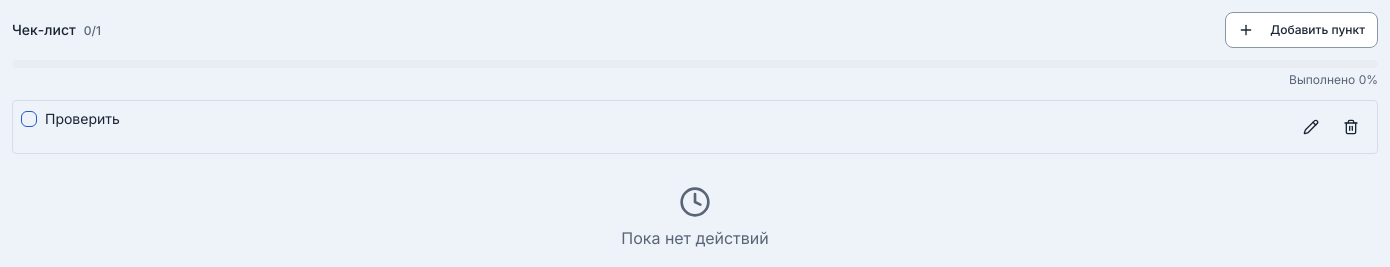
checklist-edit history refresh › refreshes only after a successful server response (success=true)
This screenshot has width=1390, height=267.
Expected: the text "Пока нет действий" is shown, left=621, top=226, right=769, bottom=250
Click the button named "Редактировать": (1311,127) left=1293, top=109, right=1329, bottom=145
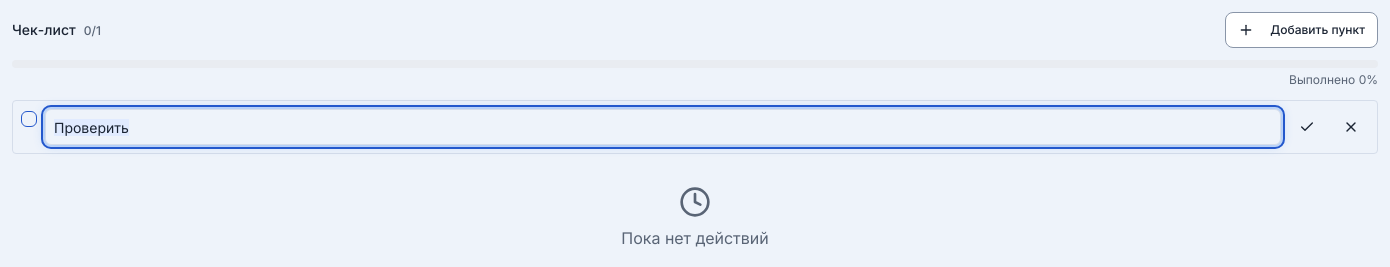
In the field: (663,127) left=45, top=109, right=1281, bottom=145, type " снова"
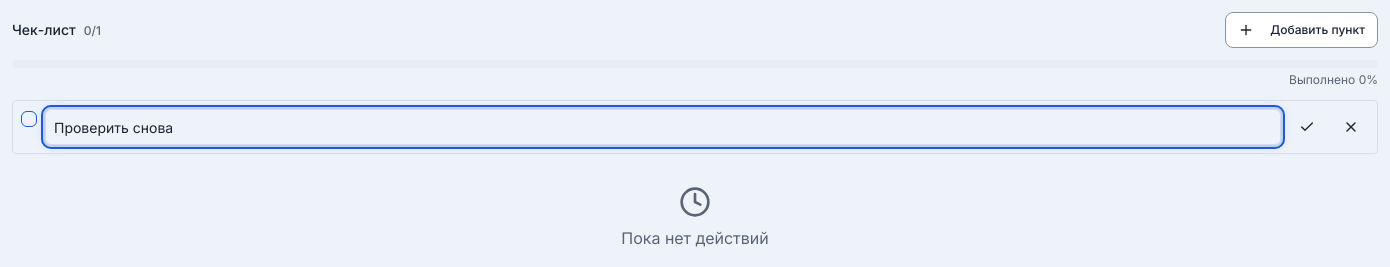
Click the button named "Сохранить": (1307,127) left=1289, top=109, right=1325, bottom=145
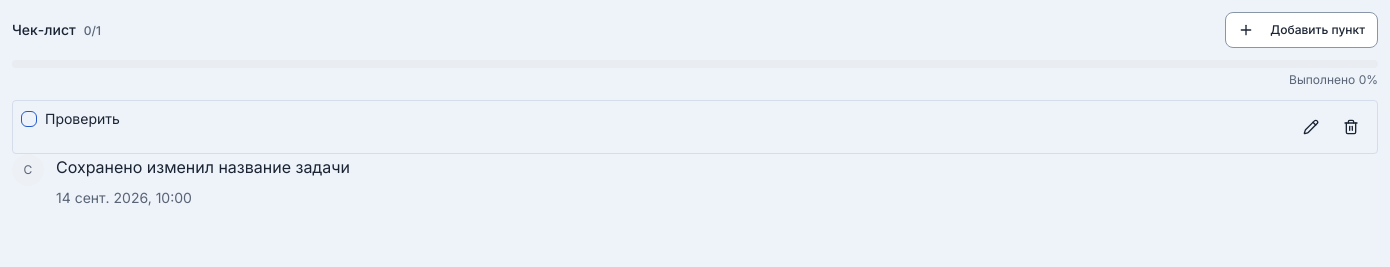
Expected: the text "Сохранено изменил название задачи" is shown, left=56, top=157, right=350, bottom=177
